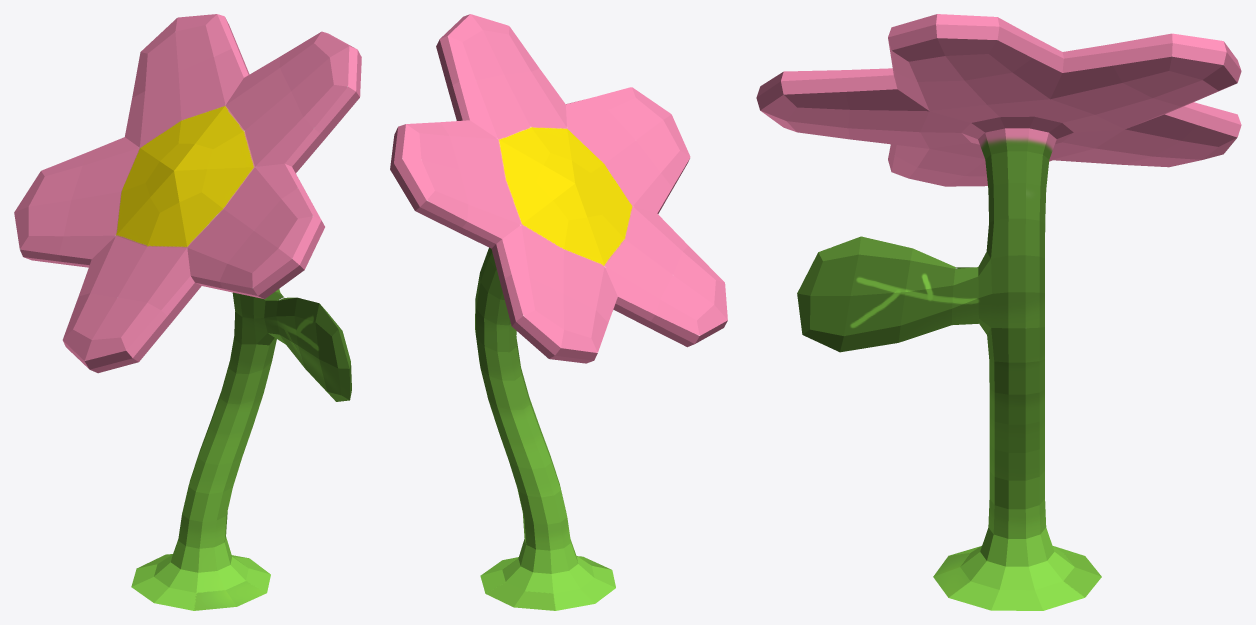
The model's file is flor rosa.fbx.
3 views of the same model, side by side, from view 1: azimuth 30°, elevation 25°; view 2: azimuth 150°, elevation 25°; view 3: azimuth 270°, elevation 25° (orthographic). The views are drawn at different scales.
Parts seen in each view (by area): view 1: floar; view 2: floar; view 3: floar.
Boxes of the visible parts, x1,y1,x2,y2 form: floar: [14, 14, 361, 610]; floar: [390, 14, 727, 610]; floar: [756, 14, 1241, 610].
Size of the model in its own units: 157 by 287 by 201.
1 material, 1 textured.
